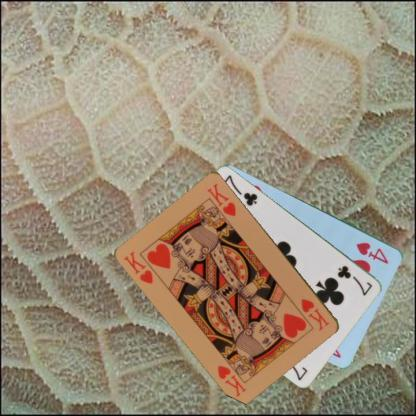4h: (354, 239, 390, 265)
7c: (335, 262, 374, 297)
Kh: (121, 248, 156, 285), (299, 296, 331, 332)
